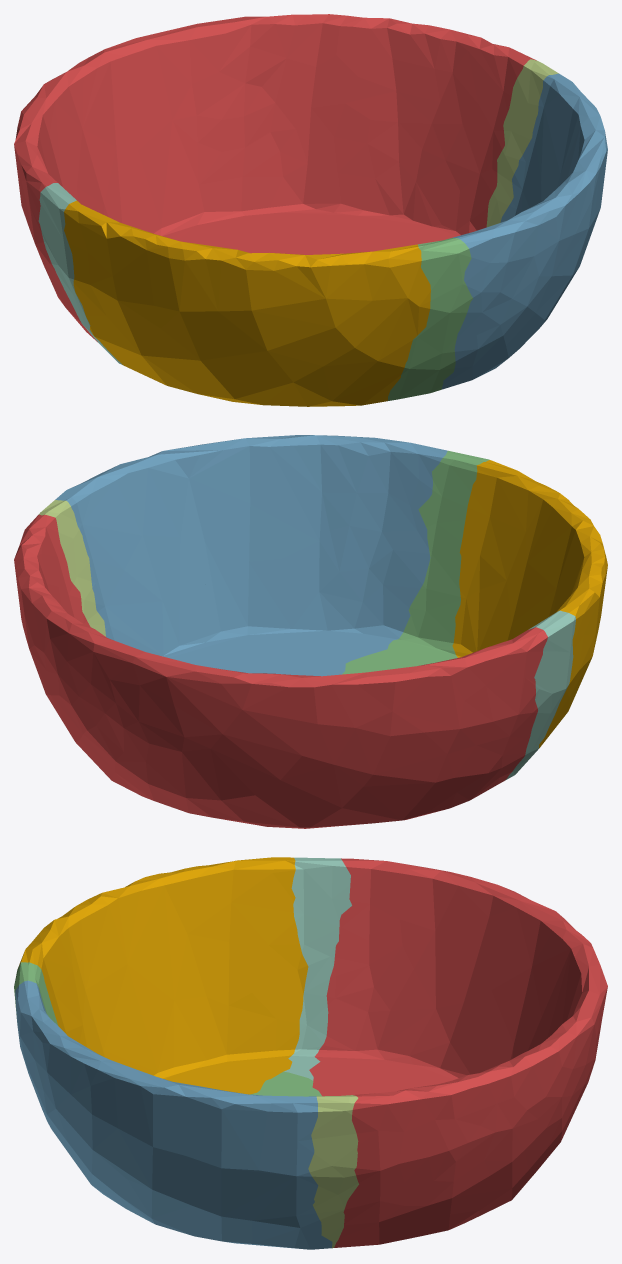
The model's file is fractured_26_6pcs.glb.
3 renders of one model, top to bottom at view 1: azimuth 30°, elevation 25°; view 2: azimuth 150°, elevation 25°; view 3: azimuth 270°, elevation 25°, orthographic.
Visible parts, largest first — view 1: piece_1.obj, piece_0.obj, piece_2.obj, piece_3.obj, piece_5.obj, piece_4.obj; view 2: piece_1.obj, piece_2.obj, piece_0.obj, piece_3.obj, piece_4.obj, piece_5.obj; view 3: piece_1.obj, piece_0.obj, piece_2.obj, piece_4.obj, piece_5.obj, piece_3.obj.
Part boxes in pixels (x1,y1,x2,y2): piece_1.obj: (14,14,536,342); piece_0.obj: (64,200,430,406); piece_2.obj: (441,73,607,389); piece_3.obj: (387,237,473,401); piece_5.obj: (486,59,558,227); piece_4.obj: (38,183,123,365); piece_1.obj: (14,514,547,828); piece_2.obj: (55,435,447,676); piece_0.obj: (452,460,607,748); piece_3.obj: (342,450,489,674); piece_4.obj: (505,610,575,780); piece_5.obj: (39,500,105,636); piece_1.obj: (309,858,607,1247); piece_0.obj: (18,857,308,1094); piece_2.obj: (15,980,332,1249); piece_4.obj: (284,857,351,1080); piece_5.obj: (308,1095,358,1248); piece_3.obj: (14,962,321,1096).
Bounding box in the file's own units: 0.9983 × 0.33 × 1.
